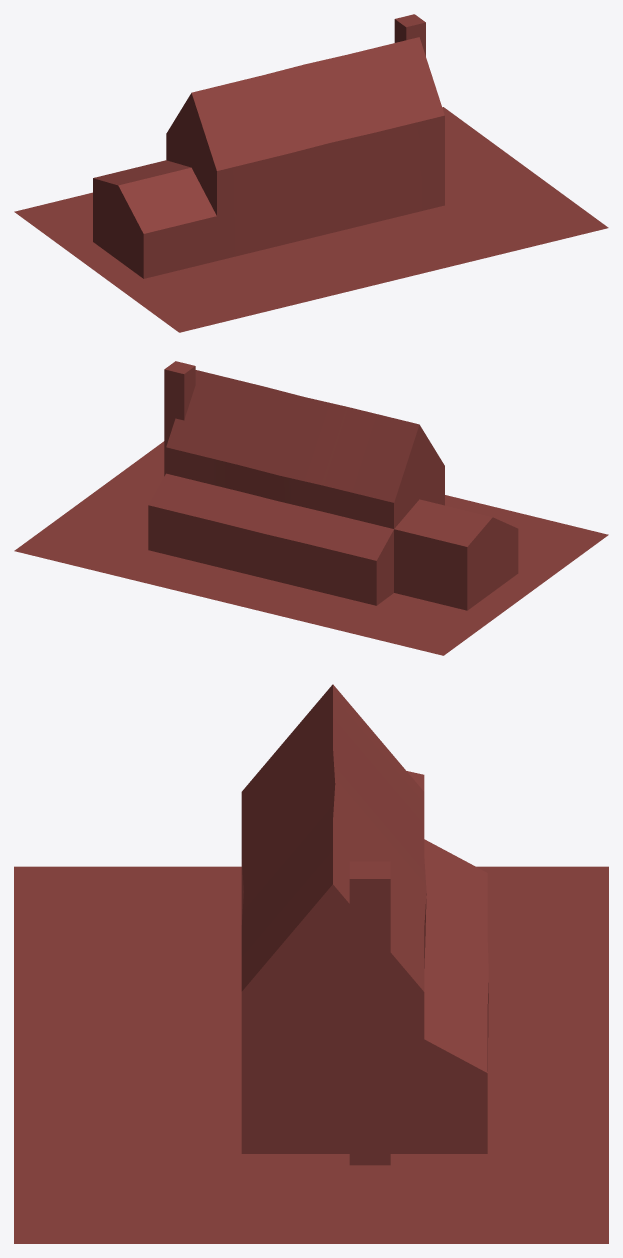
Rendered from 3x2 Building.fbx.
3 renders of one model, top to bottom at view 1: azimuth 30°, elevation 25°; view 2: azimuth 150°, elevation 25°; view 3: azimuth 270°, elevation 25°, orthographic. The views are drawn at different scales.
Visible parts, largest first — view 1: 3x2 Building; view 2: 3x2 Building; view 3: 3x2 Building.
Part boxes in pixels (<box>): 3x2 Building: <box>14,14,608,332</box>; 3x2 Building: <box>14,361,608,655</box>; 3x2 Building: <box>14,684,608,1243</box>.
Bounding box in the file's own units: 3 × 1.09 × 2.
